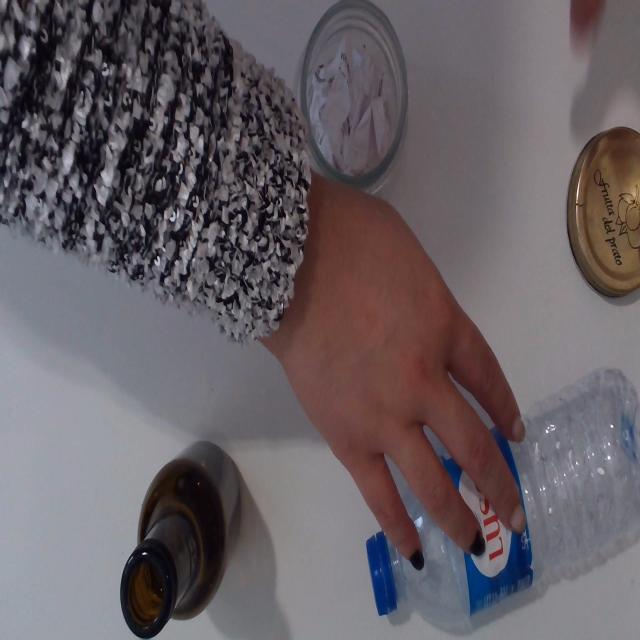Glass: (122, 446, 242, 640)
Paper: (313, 36, 392, 161)
Plastic: (364, 366, 640, 635)
